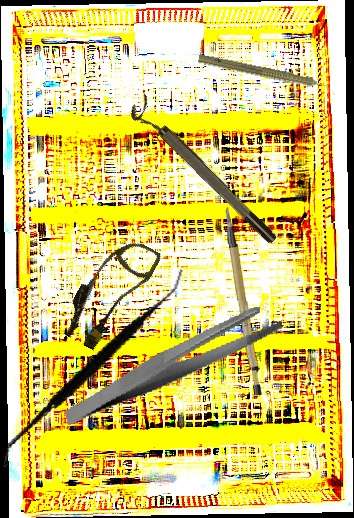Cannula: (56, 227, 163, 358)
Dressing Forceps: (52, 302, 294, 426)
Fixation Ring: (125, 94, 281, 253)
Handpiece: (196, 51, 339, 98)
Scalpel Handle: (224, 206, 265, 396)
Spatula Surgical: (3, 240, 185, 497)
